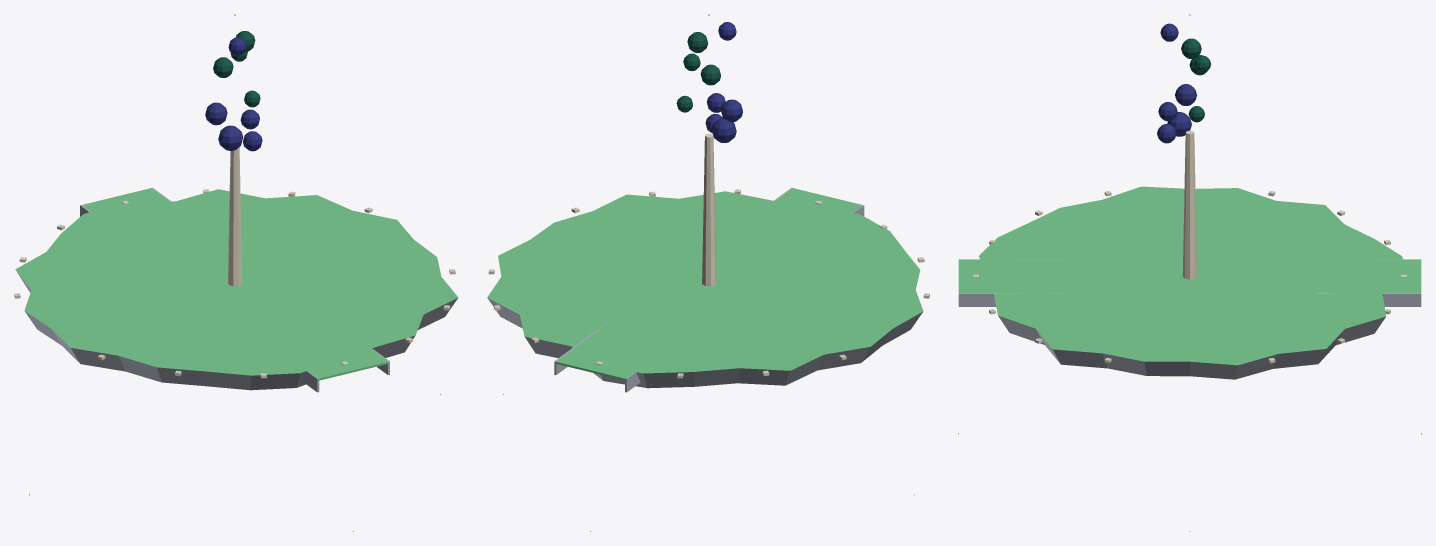
File: chunk_es_meadow_terrace.fbx
The picture shows the model from 3 angles, left to right: view 1: azimuth 30°, elevation 25°; view 2: azimuth 150°, elevation 25°; view 3: azimuth 270°, elevation 25°; orthographic projection. The views are drawn at different scales.
Visible parts, largest first — view 1: ES_MEADOW_TERRACE; view 2: ES_MEADOW_TERRACE; view 3: ES_MEADOW_TERRACE.
Boxes of the visible parts, x1,y1,x2,y2 form: ES_MEADOW_TERRACE: (14, 14, 458, 531); ES_MEADOW_TERRACE: (487, 14, 929, 531); ES_MEADOW_TERRACE: (958, 14, 1421, 531).
Size of the model in its own units: 256 by 256 by 256.
